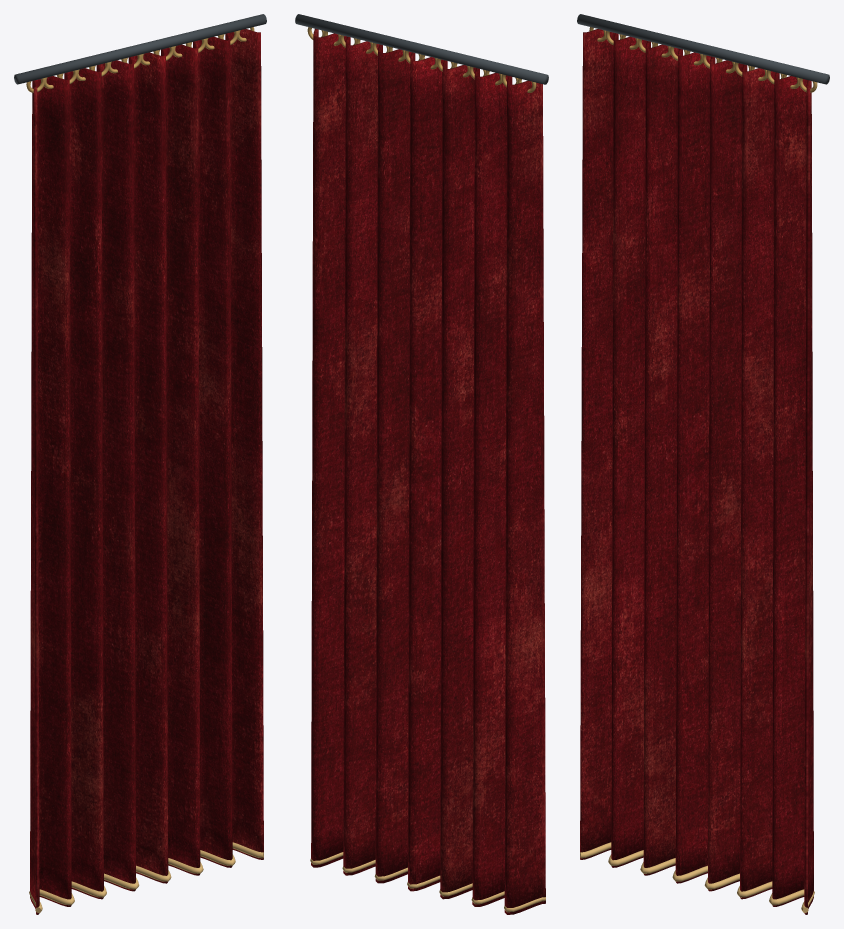
File: curtain.gltf
3 views of the same model, side by side, from view 1: azimuth 30°, elevation 25°; view 2: azimuth 150°, elevation 25°; view 3: azimuth 330°, elevation 25° (orthographic).
Parts seen in each view (by area): view 1: curtain; view 2: curtain; view 3: curtain.
Boxes of the visible parts, x1,y1,x2,y2 form: curtain: (14, 14, 266, 914); curtain: (295, 14, 548, 914); curtain: (577, 14, 829, 914).
Bounding box in the file's own units: 2.2 × 7.09 × 0.37.
4 materials, 1 textured.
